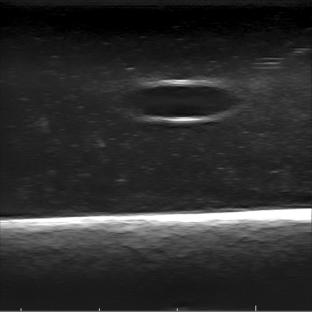vessel: (122, 79, 239, 123)
